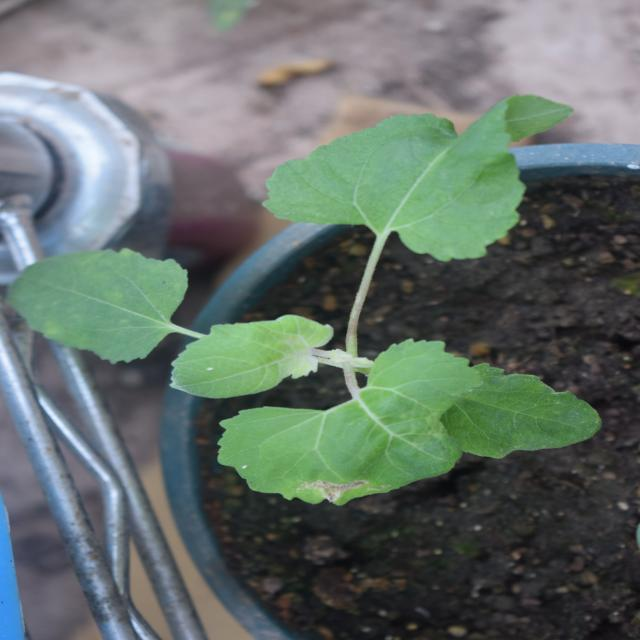cocklebur: (132, 51, 553, 581)
